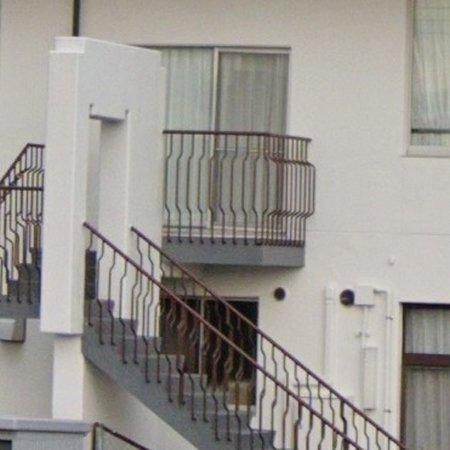stairs: (84, 225, 408, 450)
